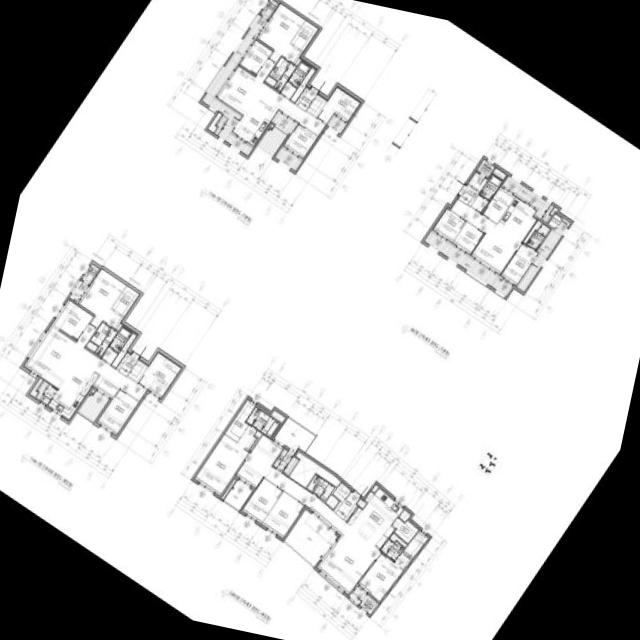background: (0, 0, 640, 640)
space_balconi: (201, 15, 266, 155), (423, 231, 512, 296), (516, 218, 569, 291), (283, 509, 336, 566), (502, 176, 553, 222), (273, 417, 314, 451), (256, 126, 286, 156), (77, 392, 107, 421), (223, 480, 251, 509), (272, 448, 298, 475), (274, 147, 301, 170), (35, 380, 56, 404), (272, 112, 294, 133), (68, 280, 87, 301), (348, 585, 365, 604), (327, 116, 345, 133)
space_bedroom: (194, 425, 256, 495), (256, 3, 304, 63), (77, 268, 125, 328), (358, 552, 402, 601), (137, 351, 181, 397), (261, 491, 303, 537), (96, 388, 138, 434), (241, 478, 282, 522), (51, 299, 92, 339), (316, 86, 360, 123), (500, 242, 537, 285), (283, 123, 317, 158), (238, 39, 271, 74), (432, 208, 465, 241), (452, 221, 483, 253)
space_dressroom: (224, 399, 255, 441), (394, 530, 427, 569), (111, 285, 139, 316), (290, 20, 317, 51)
space_front: (332, 490, 360, 520), (294, 87, 317, 111), (115, 352, 137, 376), (457, 184, 478, 205)
space_kitchen: (347, 487, 402, 548), (47, 360, 98, 419), (232, 95, 276, 145), (496, 197, 535, 241)
space_living_room: (235, 434, 380, 593), (23, 324, 146, 401), (214, 57, 325, 135), (450, 198, 520, 274)
space_other: (288, 452, 340, 487), (482, 186, 514, 223), (289, 67, 315, 102), (110, 333, 136, 367), (392, 517, 417, 543), (92, 374, 118, 398), (306, 93, 326, 116), (127, 360, 147, 381), (523, 220, 541, 243), (358, 594, 378, 614), (467, 172, 487, 191), (332, 482, 350, 502), (220, 478, 235, 499), (470, 195, 487, 212), (207, 112, 221, 132), (28, 377, 42, 397), (279, 82, 295, 98), (100, 347, 116, 363), (249, 430, 261, 450), (389, 533, 406, 547), (324, 494, 338, 508), (547, 213, 560, 227), (270, 410, 284, 422), (492, 167, 505, 179), (398, 509, 409, 521), (264, 75, 276, 86), (356, 498, 365, 508), (549, 206, 557, 214), (294, 57, 301, 65), (115, 322, 121, 330), (371, 484, 377, 492), (90, 388, 94, 392), (269, 124, 272, 127)
space_outdoor_room: (81, 263, 99, 284), (259, 0, 277, 18), (476, 159, 494, 177)
space_toilet: (85, 322, 116, 355), (245, 407, 279, 437), (268, 56, 295, 90), (306, 474, 333, 500), (478, 173, 502, 200), (526, 223, 549, 249), (108, 326, 131, 352), (287, 61, 309, 86), (380, 539, 403, 561)
